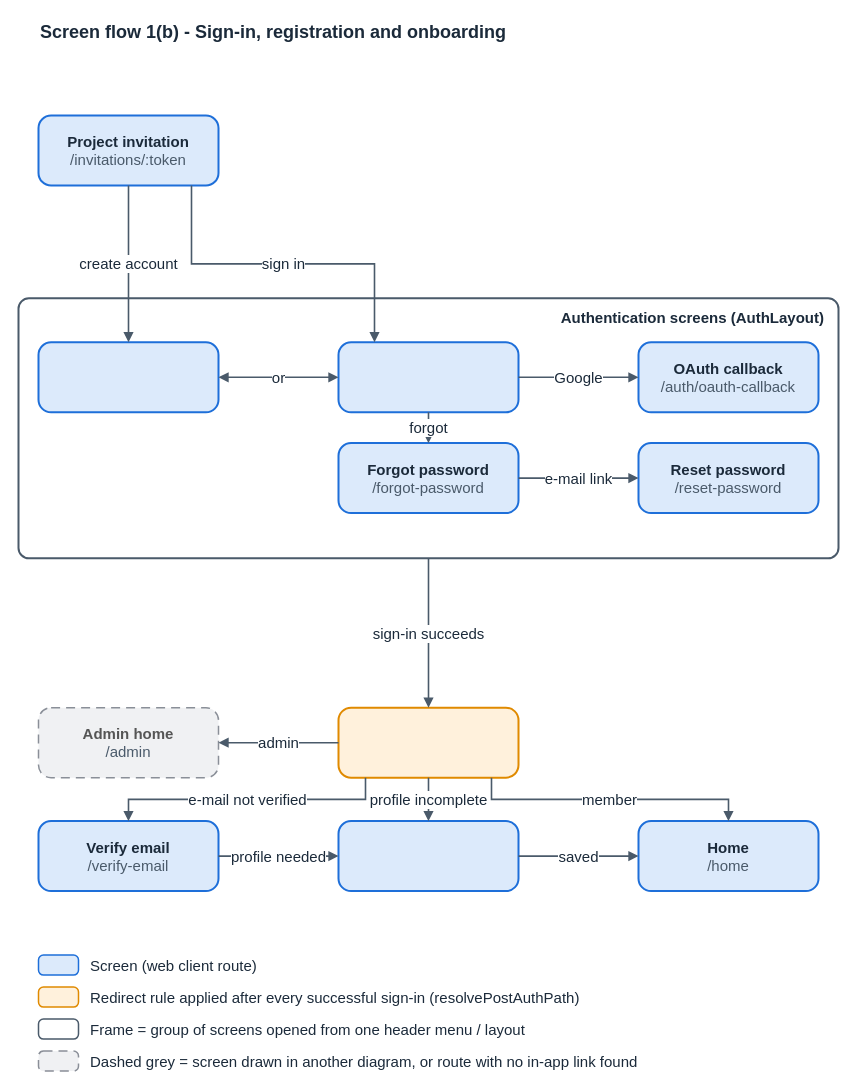
Some shapes in this 856 by 1092 pixel diagram are drawn without their labels. The box of each missing label's shape, as (x1, y1, x2, y2) in pixels:
Academic onboarding /onboarding/academic-profile: (337, 820, 519, 892)
Login /login: (337, 341, 519, 413)
Post-sign-in redirect rule resolvePostAuthPath: (337, 706, 519, 778)
Register /register: (37, 341, 219, 413)
